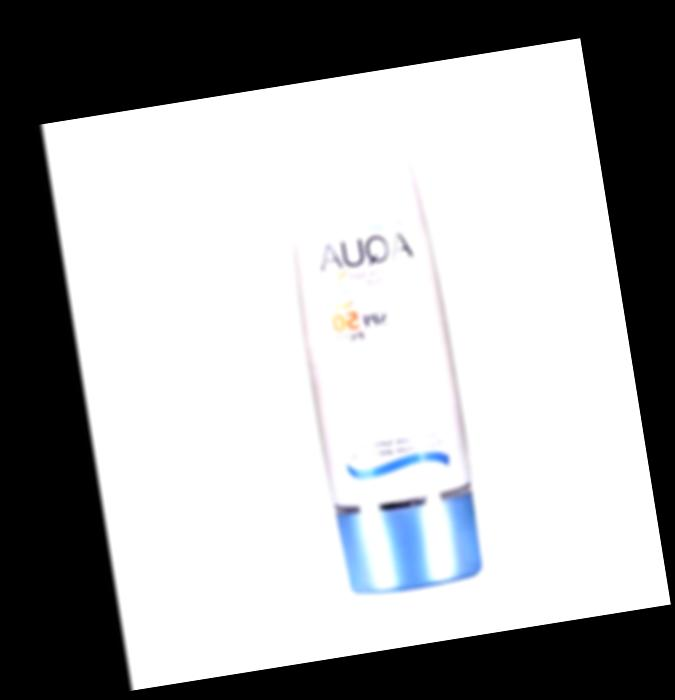cosmetic: (266, 119, 488, 599)
